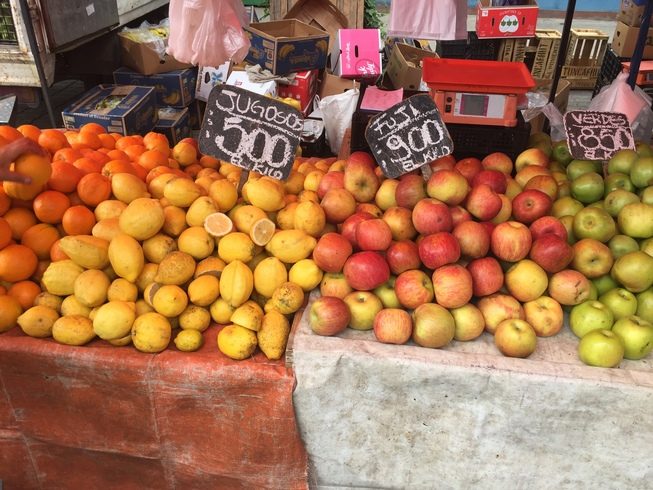precio: (198, 83, 310, 193), (363, 93, 459, 186), (560, 105, 642, 173)
